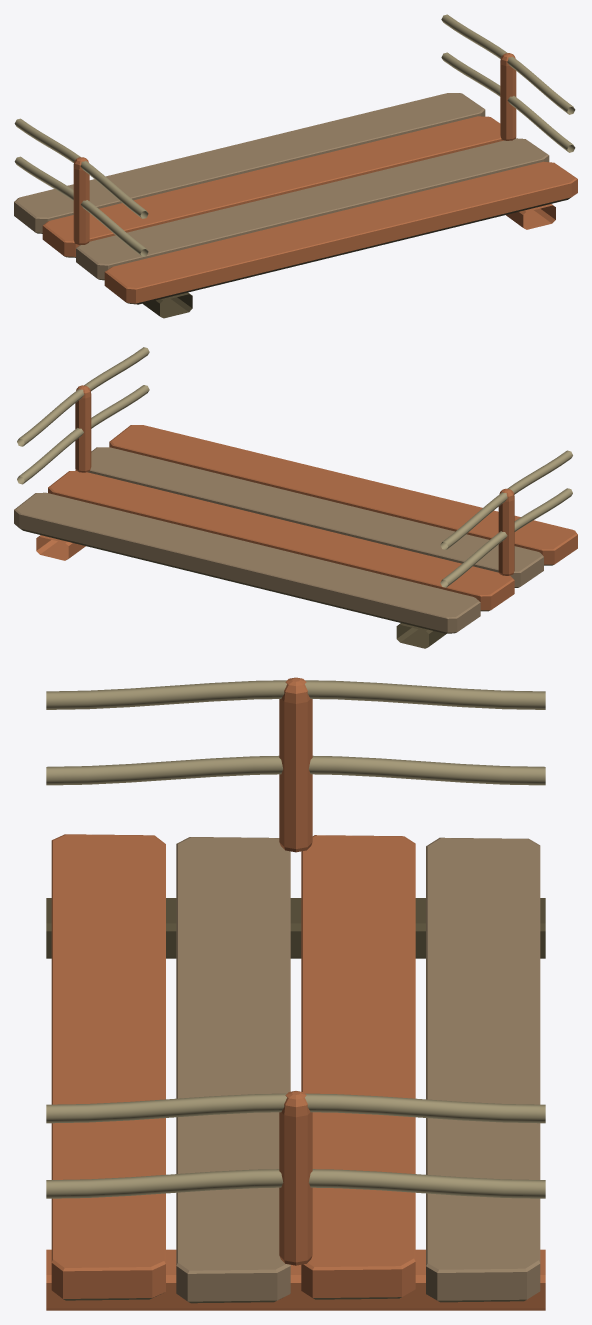
File: bridgeDeck.glb
3 renders of one model, top to bottom at view 1: azimuth 30°, elevation 25°; view 2: azimuth 150°, elevation 25°; view 3: azimuth 270°, elevation 25°, orthographic. The views are drawn at different scales.
Parts seen in each view (by area): view 1: bridgeDeck; view 2: bridgeDeck; view 3: bridgeDeck.
Boxes of the visible parts, x1,y1,x2,y2 form: bridgeDeck: [14, 14, 577, 318]; bridgeDeck: [14, 347, 577, 648]; bridgeDeck: [46, 677, 545, 1310].
Size of the model in its own units: 5 by 1.25 by 2.4.
Materials: 1 (1 with a texture image).
